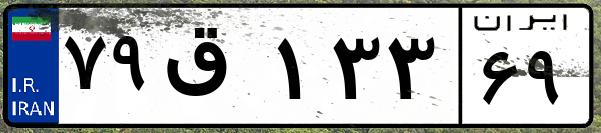1: (270, 28, 330, 110)
3: (385, 28, 445, 110), (330, 28, 385, 110)
6: (475, 38, 525, 113)
7: (57, 26, 110, 100)
9: (525, 38, 570, 115), (110, 28, 158, 98)
ق: (158, 20, 270, 120)
